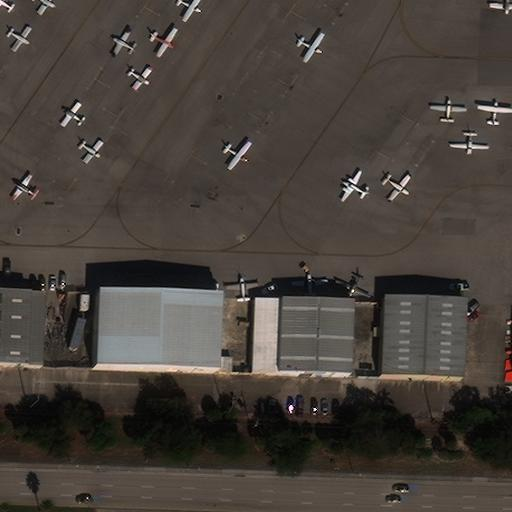Small Civil Transport: (449, 130, 488, 155), (477, 100, 511, 126), (340, 169, 368, 200), (333, 274, 369, 298), (297, 34, 325, 63), (225, 277, 257, 302), (430, 99, 466, 121), (150, 30, 178, 58), (291, 273, 326, 295), (225, 143, 253, 170), (384, 176, 411, 201), (11, 173, 36, 197), (110, 27, 134, 52), (8, 28, 32, 52), (177, 0, 203, 22), (59, 101, 83, 124), (80, 142, 104, 164), (129, 69, 153, 90), (35, 0, 56, 16), (489, 0, 511, 15), (0, 0, 12, 10)
